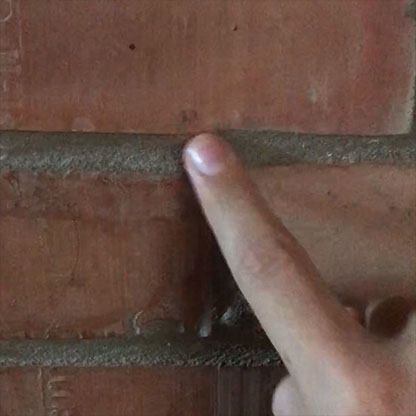fingertip: (172, 124, 254, 191)
